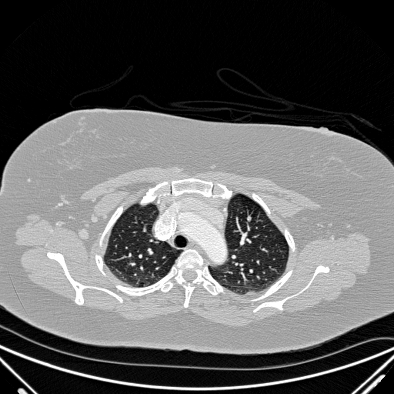nodule: (247, 216, 251, 220)
